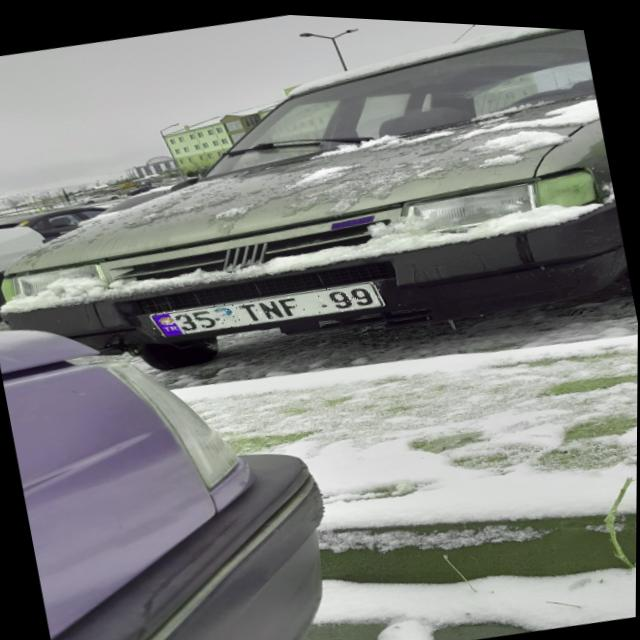license_plate: (150, 267, 385, 346)
